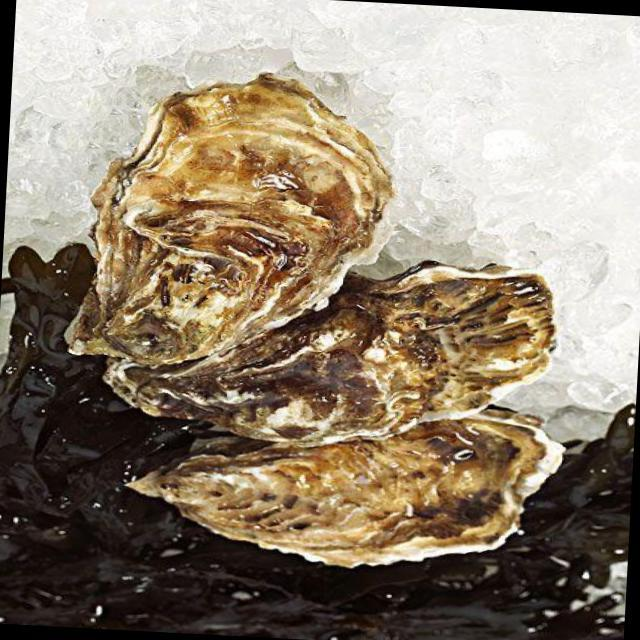Oyster- Indeterminate: (58, 66, 409, 384), (88, 239, 570, 462), (120, 388, 572, 583)
